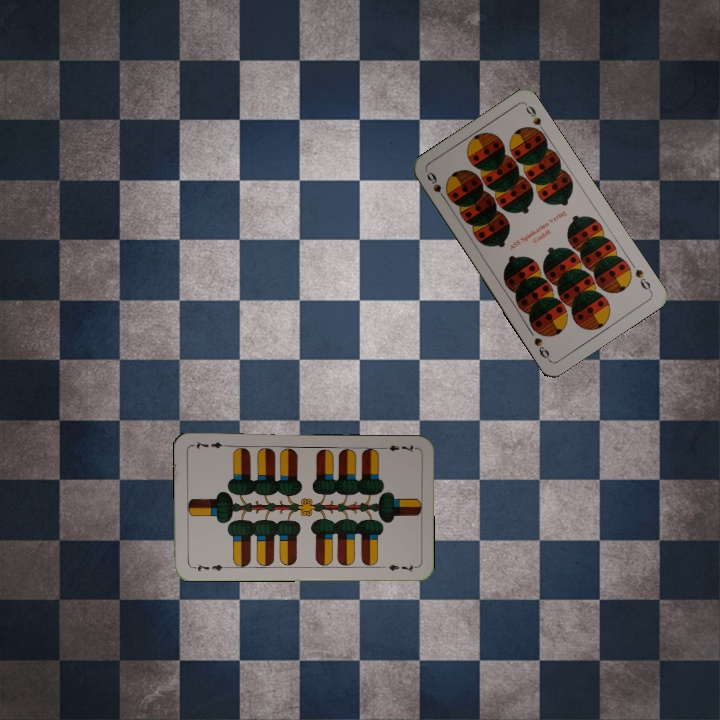E7: (189, 560, 229, 574), (377, 441, 417, 455)
S9: (422, 168, 450, 205), (631, 265, 654, 295)
